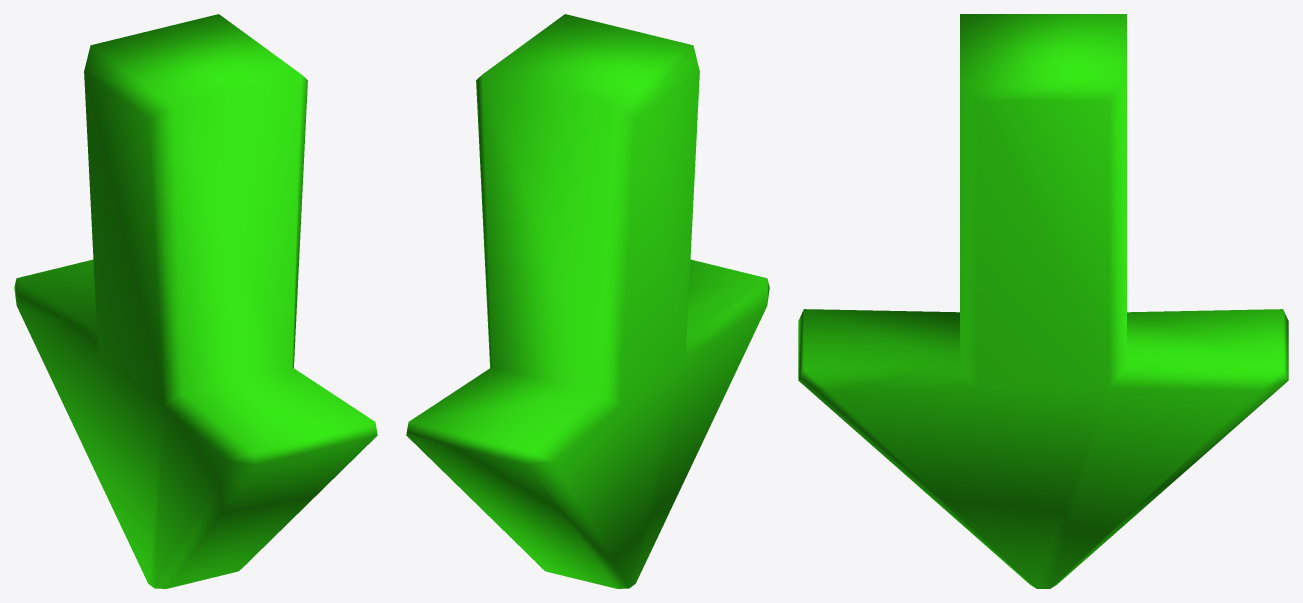
The model's file is Arrow.fbx.
3 views of the same model, side by side, from view 1: azimuth 30°, elevation 25°; view 2: azimuth 150°, elevation 25°; view 3: azimuth 270°, elevation 25° (orthographic).
Visible parts, largest first — view 1: Cube; view 2: Cube; view 3: Cube.
Part boxes in pixels (x1,y1,x2,y2): Cube: [14, 14, 377, 588]; Cube: [406, 14, 769, 588]; Cube: [798, 14, 1288, 588].
Size of the model in its own units: 4.4 by 13.64 by 11.62.
